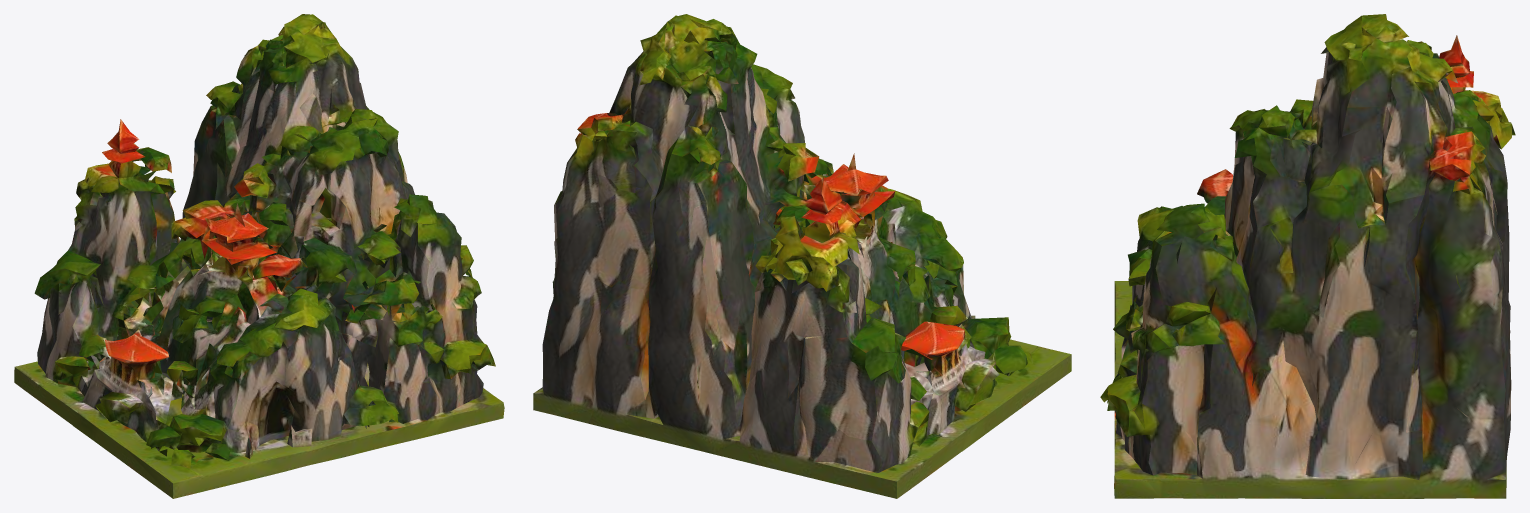
Rendered from marble-mountains.glb.
The picture shows the model from 3 angles, left to right: view 1: azimuth 30°, elevation 25°; view 2: azimuth 150°, elevation 25°; view 3: azimuth 270°, elevation 25°; orthographic projection. The views are drawn at different scales.
Parts seen in each view (by area): view 1: logan-textured.obj; view 2: logan-textured.obj; view 3: logan-textured.obj.
Part boxes in pixels (x1=…): logan-textured.obj: x1=14, y1=14, x2=504, y2=498; logan-textured.obj: x1=533, y1=14, x2=1071, y2=498; logan-textured.obj: x1=1100, y1=14, x2=1515, y2=498.
Size of the model in its own units: 1 by 0.9895 by 0.8805.
Materials: 1 (1 with a texture image).
